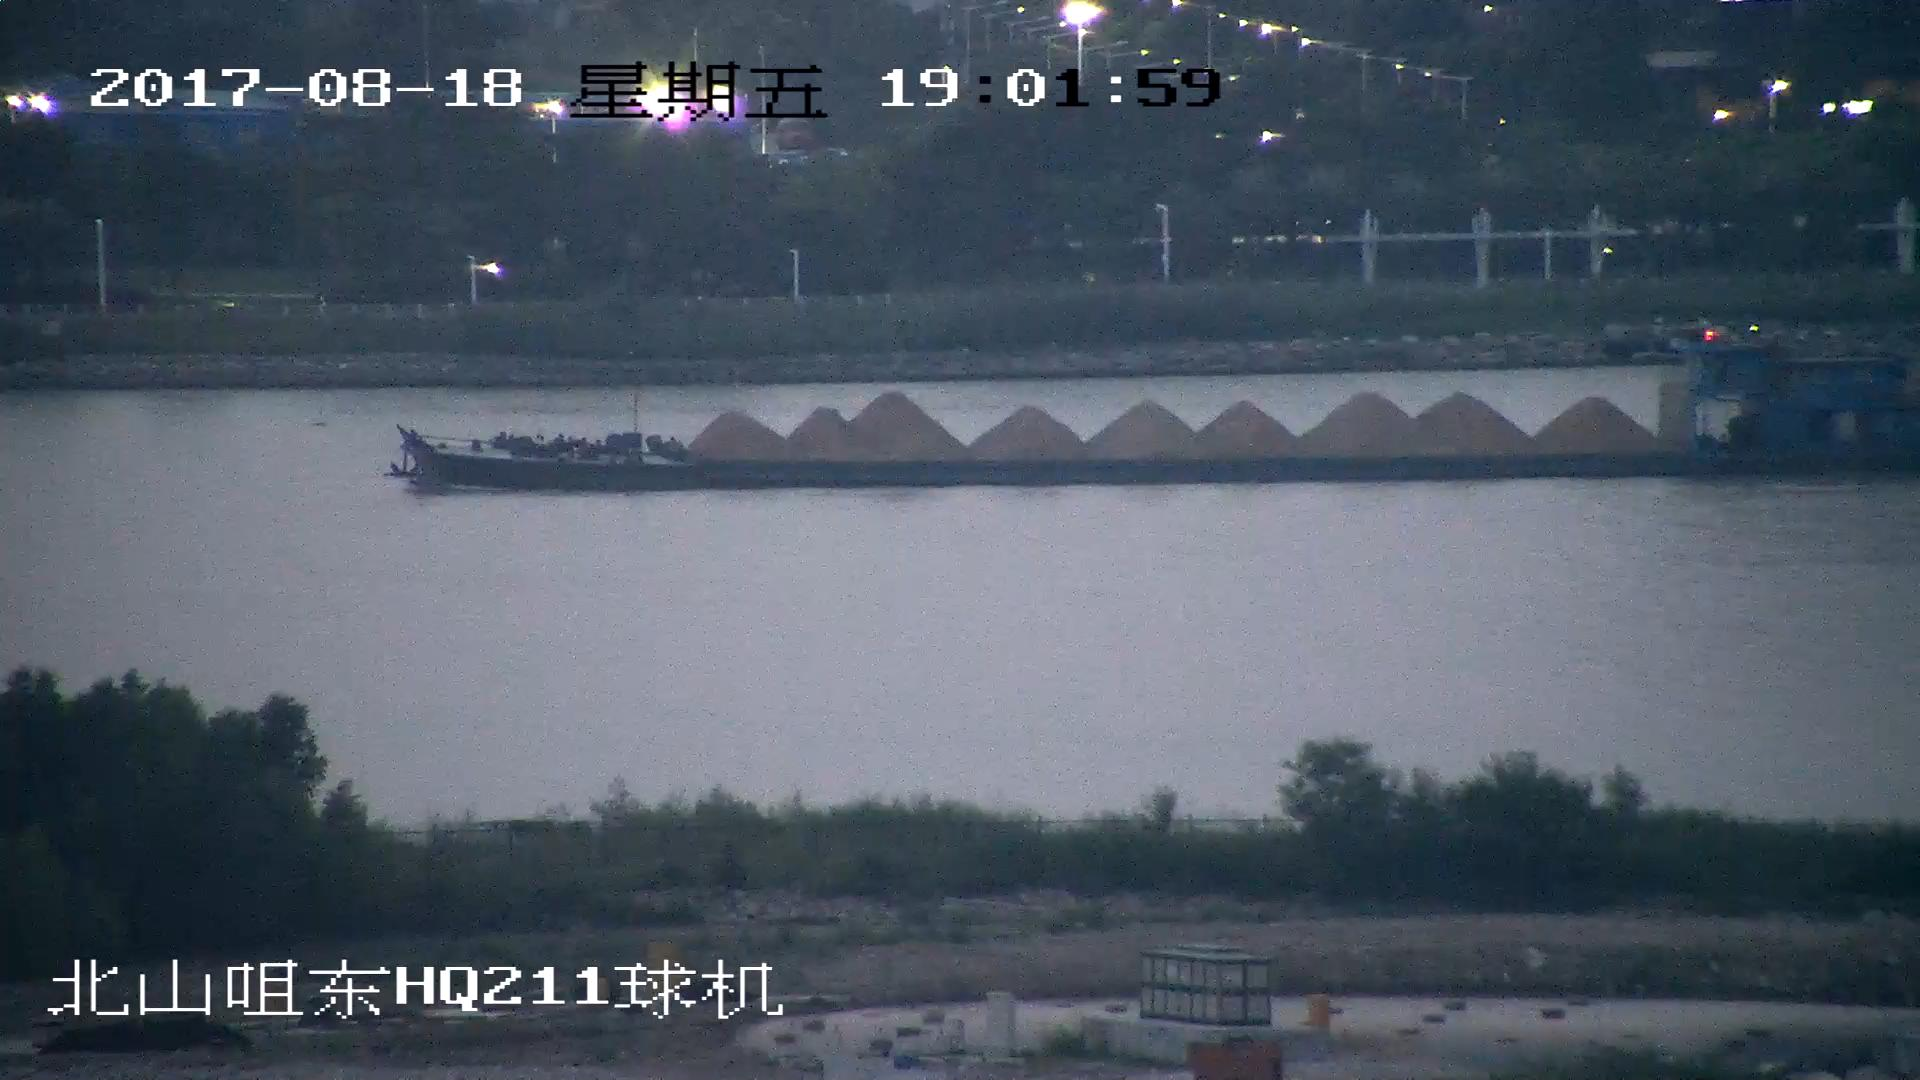ore carrier: (391, 327, 1920, 487)
